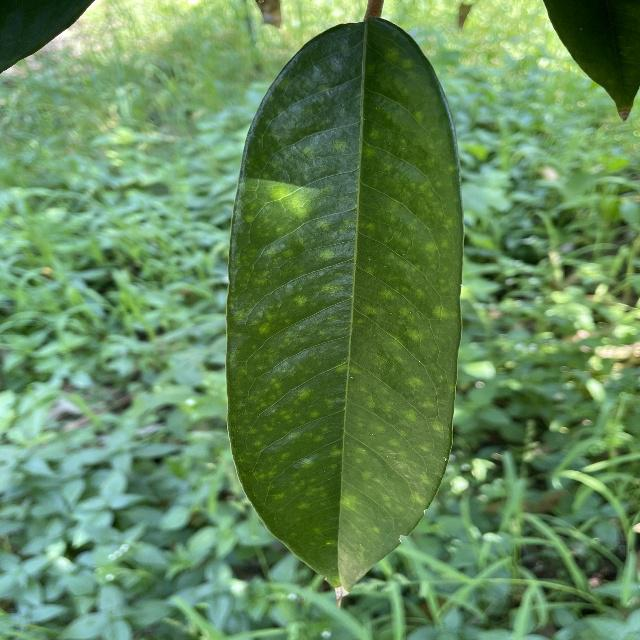Leaf Spot: (221, 9, 473, 605)
